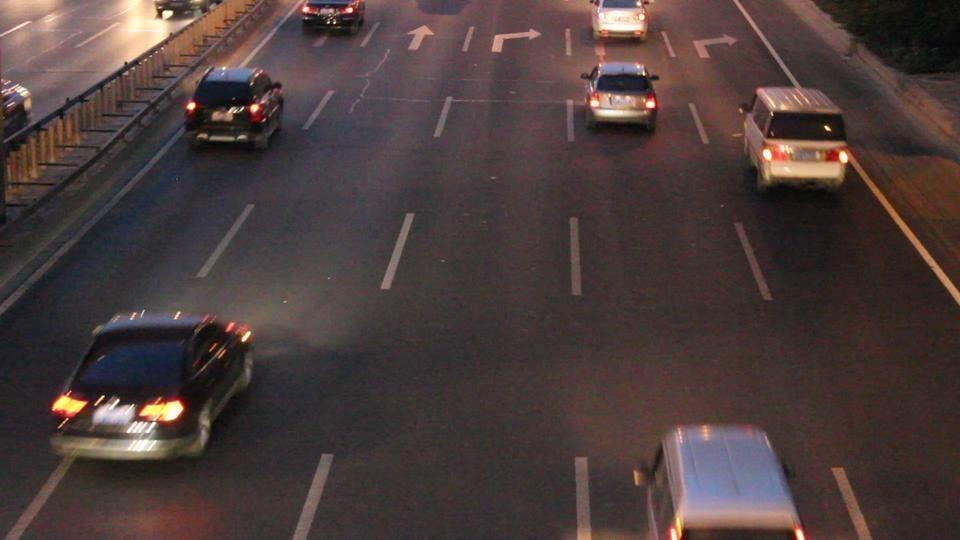car: (48, 308, 257, 463), (632, 422, 810, 538), (738, 84, 851, 194), (182, 67, 286, 151), (582, 62, 661, 133), (590, 0, 651, 42), (300, 0, 366, 33), (1, 77, 33, 133), (153, 0, 213, 19)
